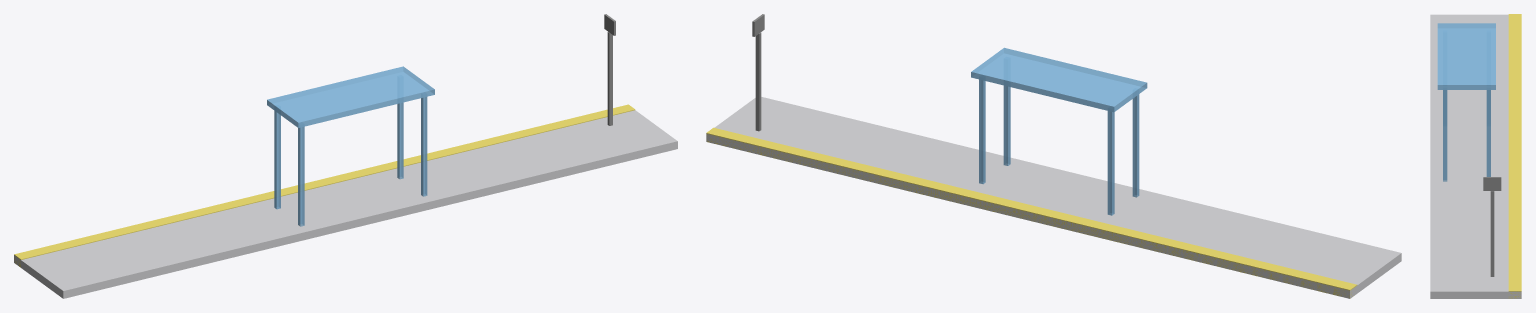
Rendered from bus_stop.glb.
3 views of the same model, side by side, from view 1: azimuth 30°, elevation 25°; view 2: azimuth 150°, elevation 25°; view 3: azimuth 270°, elevation 25° (orthographic). The views are drawn at different scales.
Parts seen in each view (by area): view 1: platform_body@0, shelter@0, boarding_edge@0, post@0; view 2: platform_body@0, shelter@0, boarding_edge@0, post@0; view 3: platform_body@0, shelter@0, boarding_edge@0, post@0.
Boxes of the visible parts, x1=… form: platform_body@0: x1=14, y1=110, x2=677, y2=298; shelter@0: x1=267, y1=66, x2=434, y2=226; boarding_edge@0: x1=14, y1=104, x2=635, y2=267; post@0: x1=604, y1=14, x2=615, y2=125; platform_body@0: x1=706, y1=97, x2=1401, y2=298; shelter@0: x1=971, y1=47, x2=1147, y2=215; boarding_edge@0: x1=706, y1=127, x2=1357, y2=298; post@0: x1=752, y1=14, x2=764, y2=131; platform_body@0: x1=1430, y1=14, x2=1521, y2=298; shelter@0: x1=1437, y1=23, x2=1495, y2=181; boarding_edge@0: x1=1508, y1=14, x2=1521, y2=298; post@0: x1=1483, y1=177, x2=1501, y2=276.
Size of the model in its own units: 18 by 3.22 by 2.5.
